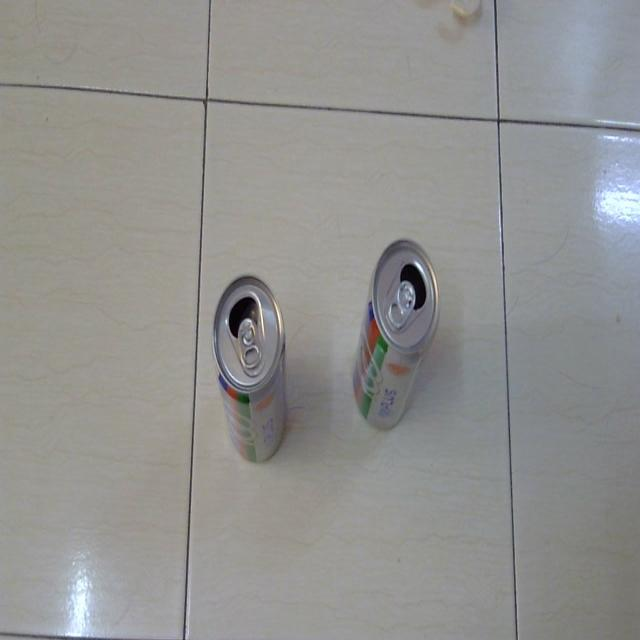metal_standrotation: (198, 262, 300, 482), (348, 222, 444, 453)
